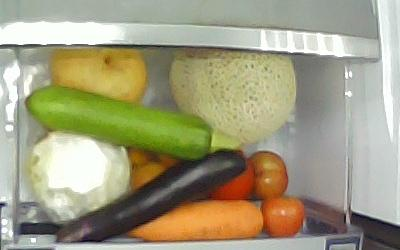cabbage: (28, 129, 131, 224)
carrot: (125, 198, 263, 241)
eggplant: (54, 146, 246, 244)
melon: (168, 48, 296, 144)
pear: (49, 46, 147, 103)
prune: (246, 150, 288, 200), (259, 194, 305, 237)
tomato: (207, 158, 253, 200)
zucchini: (24, 84, 242, 159)
